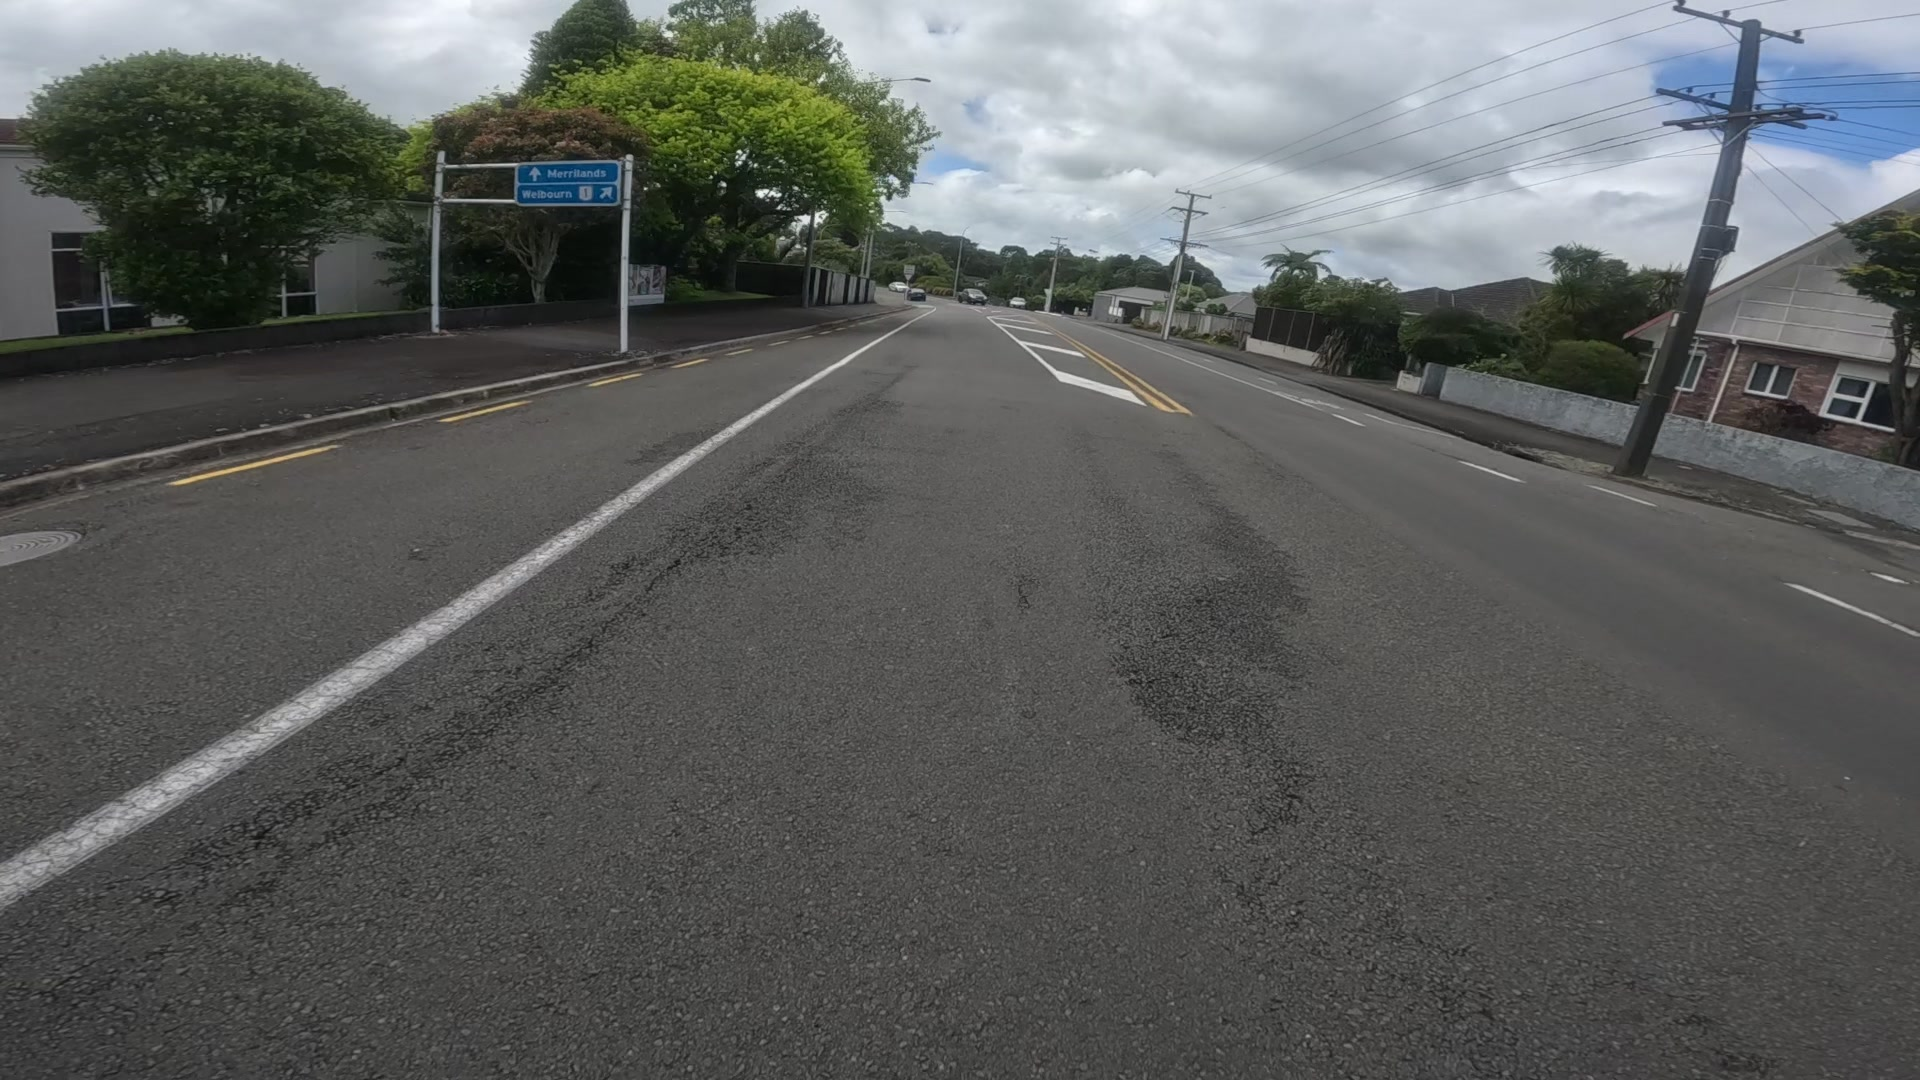Longitudinal_Cracking: (459, 465, 783, 760)
